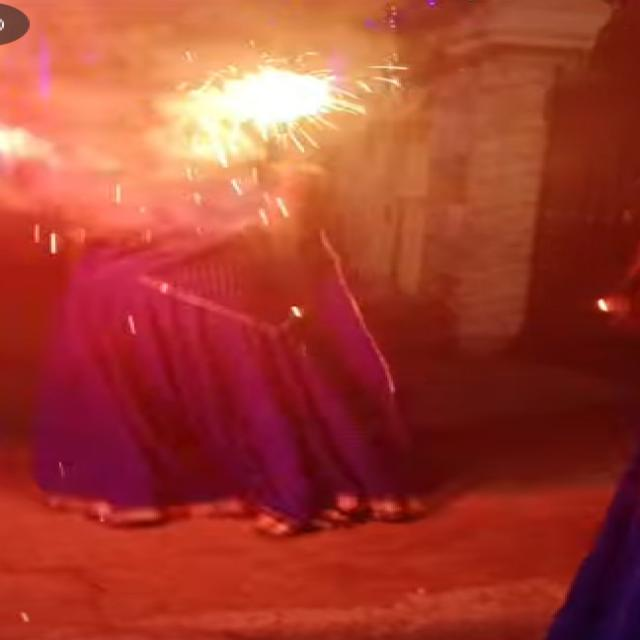fire: (149, 64, 366, 168)
